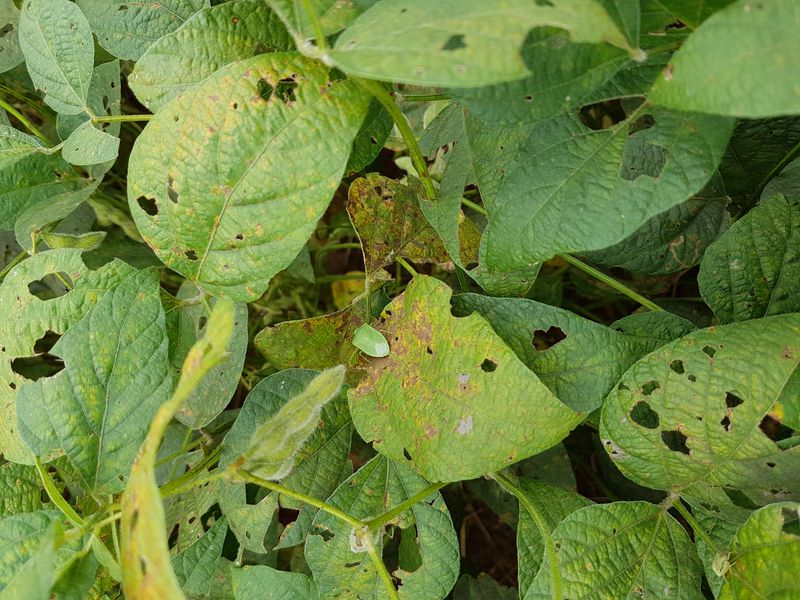Nezara_viridula_adulto: (342, 313, 402, 372)
